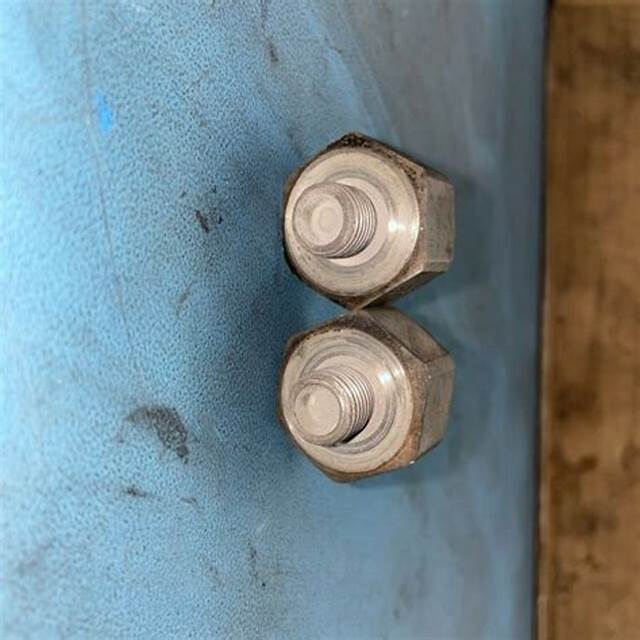bolt_b: (274, 126, 456, 310), (268, 312, 457, 484)
